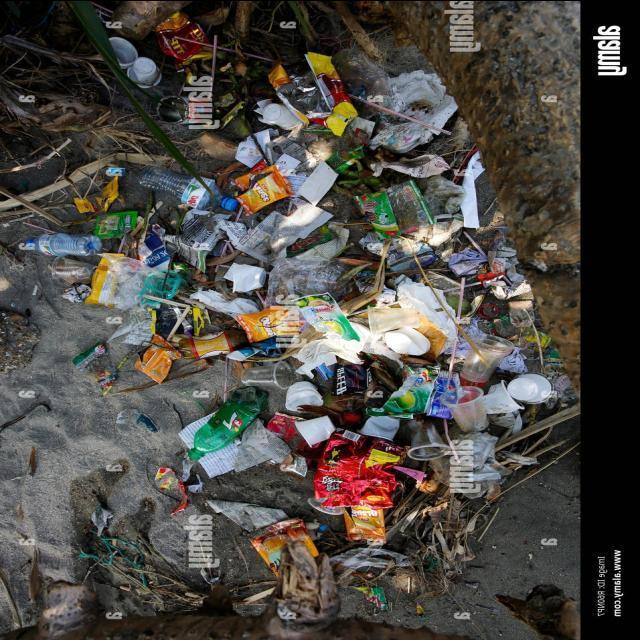Disposable: (461, 334, 515, 381), (440, 385, 488, 431), (408, 419, 450, 460), (241, 360, 299, 389), (507, 371, 552, 402), (367, 306, 420, 332), (51, 255, 96, 282), (286, 380, 323, 410), (127, 56, 161, 88), (263, 102, 303, 129), (109, 36, 138, 68)
Garbage: (5, 0, 552, 599)
Plastic_Bag: (265, 256, 351, 304)
Plastic_bottle: (189, 386, 269, 459), (138, 165, 236, 209), (172, 329, 247, 359), (19, 231, 102, 255)
Plastic_wraper: (269, 51, 357, 135), (314, 429, 404, 508), (355, 179, 434, 239), (85, 252, 156, 309), (163, 209, 227, 270), (252, 516, 318, 575), (367, 366, 439, 418), (155, 10, 212, 69), (296, 292, 360, 340), (233, 165, 293, 214), (73, 341, 117, 394), (134, 334, 181, 382), (343, 505, 385, 544), (75, 178, 119, 212), (287, 224, 333, 256), (93, 210, 137, 238), (325, 145, 363, 171), (143, 230, 170, 266), (316, 362, 334, 380), (478, 270, 504, 281)
